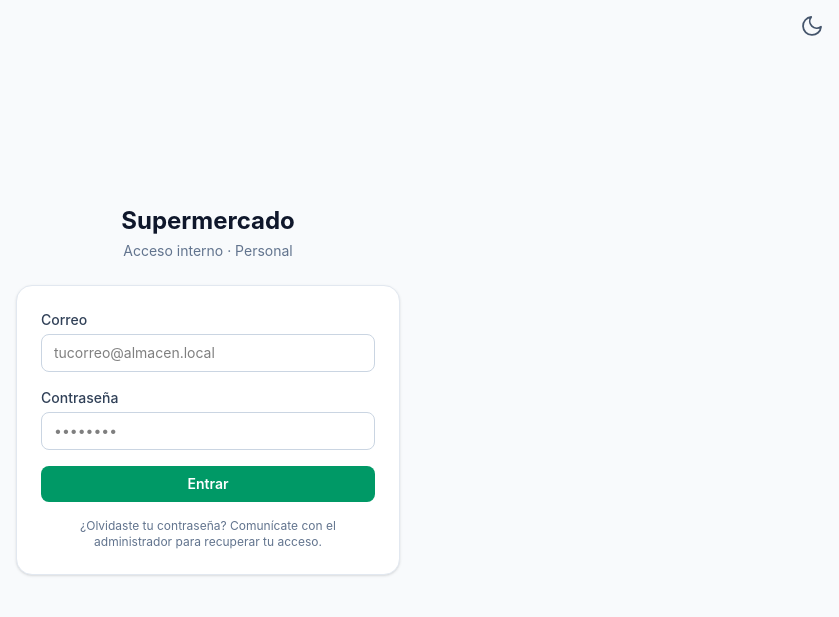
Test: LoginInterno: formulario › muestra el error de la API y vuelve a habilitar el botón
This screenshot has width=839, height=617.
Type "ventas1@almacen.local" into the field labelled "Correo" at [208, 353], box 41,334 -> 375,372
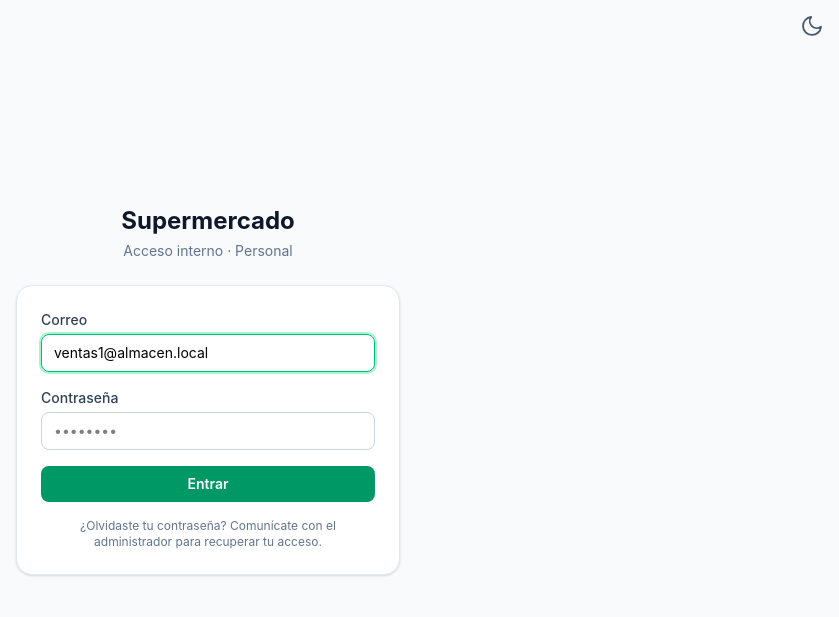
Type "Demo1234!" into the password field labelled "Contraseña" at [208, 431], box 41,412 -> 375,450
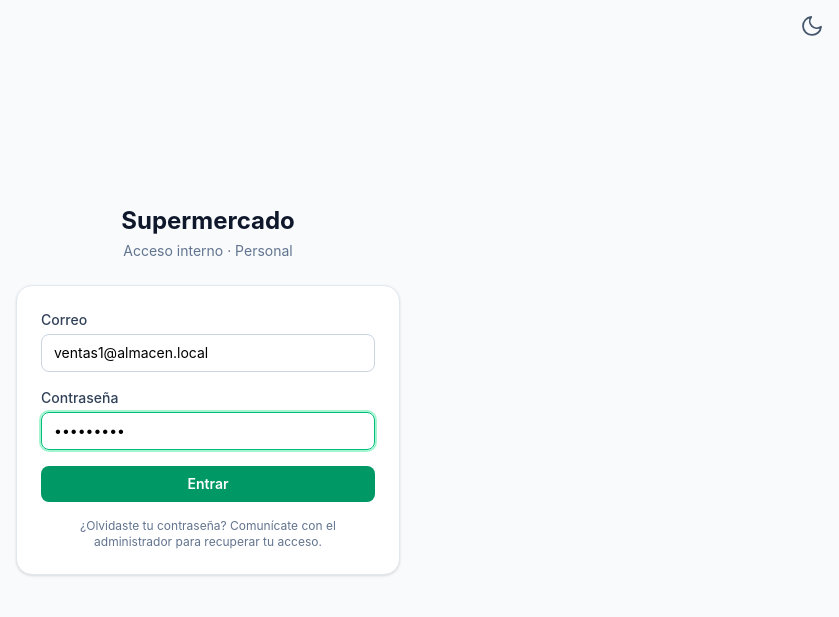
Click the button "Entrar" at [208, 484], box 41,466 -> 375,502
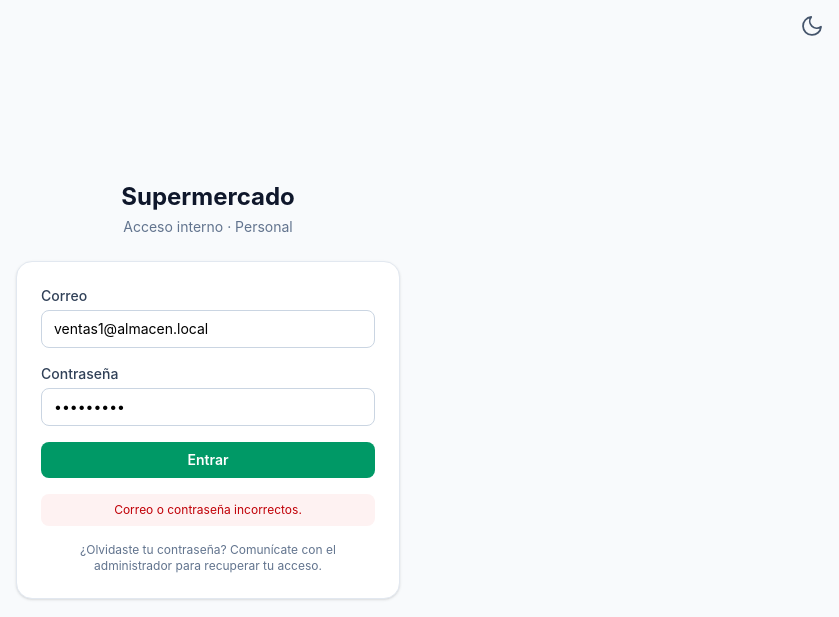
expect the button "Entrar" is enabled: met, box 41,442 -> 375,478
expect the message reads "Correo o contraseña incorrectos.": met, box 114,502 -> 302,517
